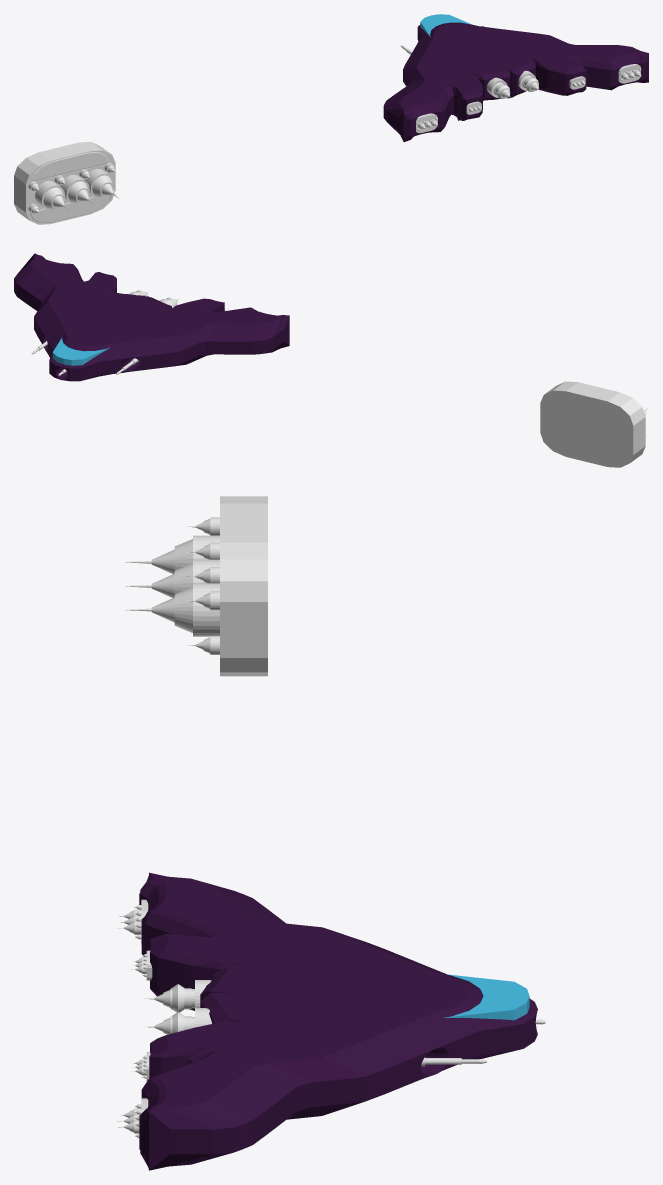
File: Space Ship Begin v2.fbx
3 renders of one model, top to bottom at view 1: azimuth 30°, elevation 25°; view 2: azimuth 150°, elevation 25°; view 3: azimuth 270°, elevation 25°, orthographic. The views are drawn at different scales.
Visible parts, largest first — view 1: Plane, Cube.002, Cylinder.009, Cylinder.010, Cylinder.011, Cube.001, Cylinder.004, Cylinder.021; view 2: Plane, Cube.002, Cube.001; view 3: Plane, Cube.002, Cylinder.011, Cube.001, Cylinder.009, Cylinder.010.
Boxes of the visible parts, <box> form: Plane: <box>383,22,648,141</box>; Cube.002: <box>14,142,115,224</box>; Cylinder.009: <box>35,180,70,210</box>; Cylinder.010: <box>60,174,94,204</box>; Cylinder.011: <box>85,169,118,198</box>; Cube.001: <box>420,14,472,36</box>; Cylinder.004: <box>618,64,641,83</box>; Cylinder.021: <box>416,113,438,133</box>; Plane: <box>14,253,289,381</box>; Cube.002: <box>540,381,645,467</box>; Cube.001: <box>52,337,109,365</box>; Plane: <box>139,872,537,1170</box>; Cube.002: <box>220,496,267,676</box>; Cylinder.011: <box>125,583,219,636</box>; Cube.001: <box>443,974,529,1020</box>; Cylinder.009: <box>125,535,219,573</box>; Cylinder.010: <box>125,559,219,597</box>.
Bounding box in the file's own units: 2009 × 200 × 615.
